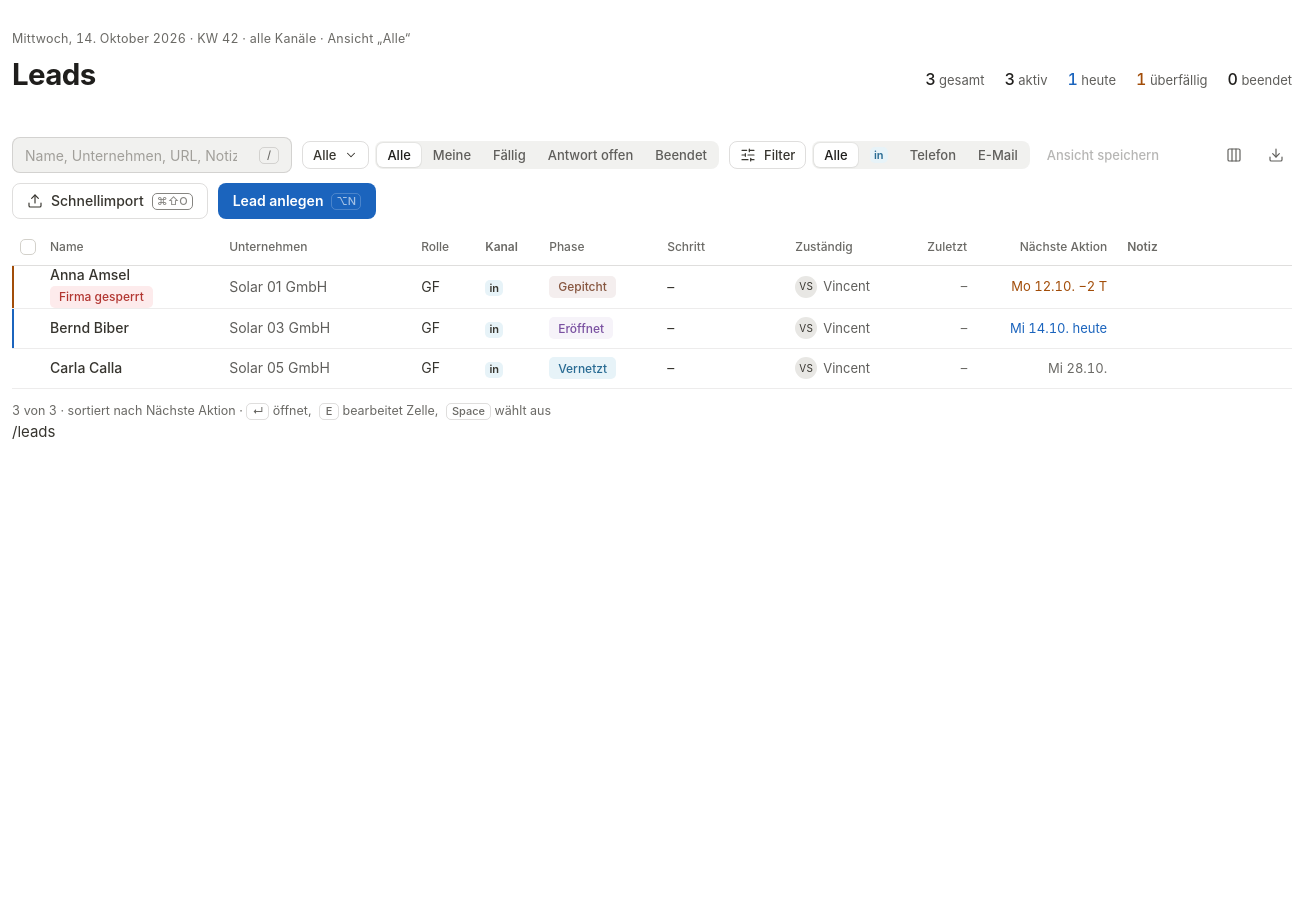
Test case: LeadsSeite › Suche schreibt ?q= (entprellt) und der Leerzustand schlägt „Meintest du …“ vor (LE-02)
The width and height of the screenshot is (1304, 900).
In the search field named "Leads durchsuchen": coordinates (138, 155) [25,138,251,172], type "conrd"
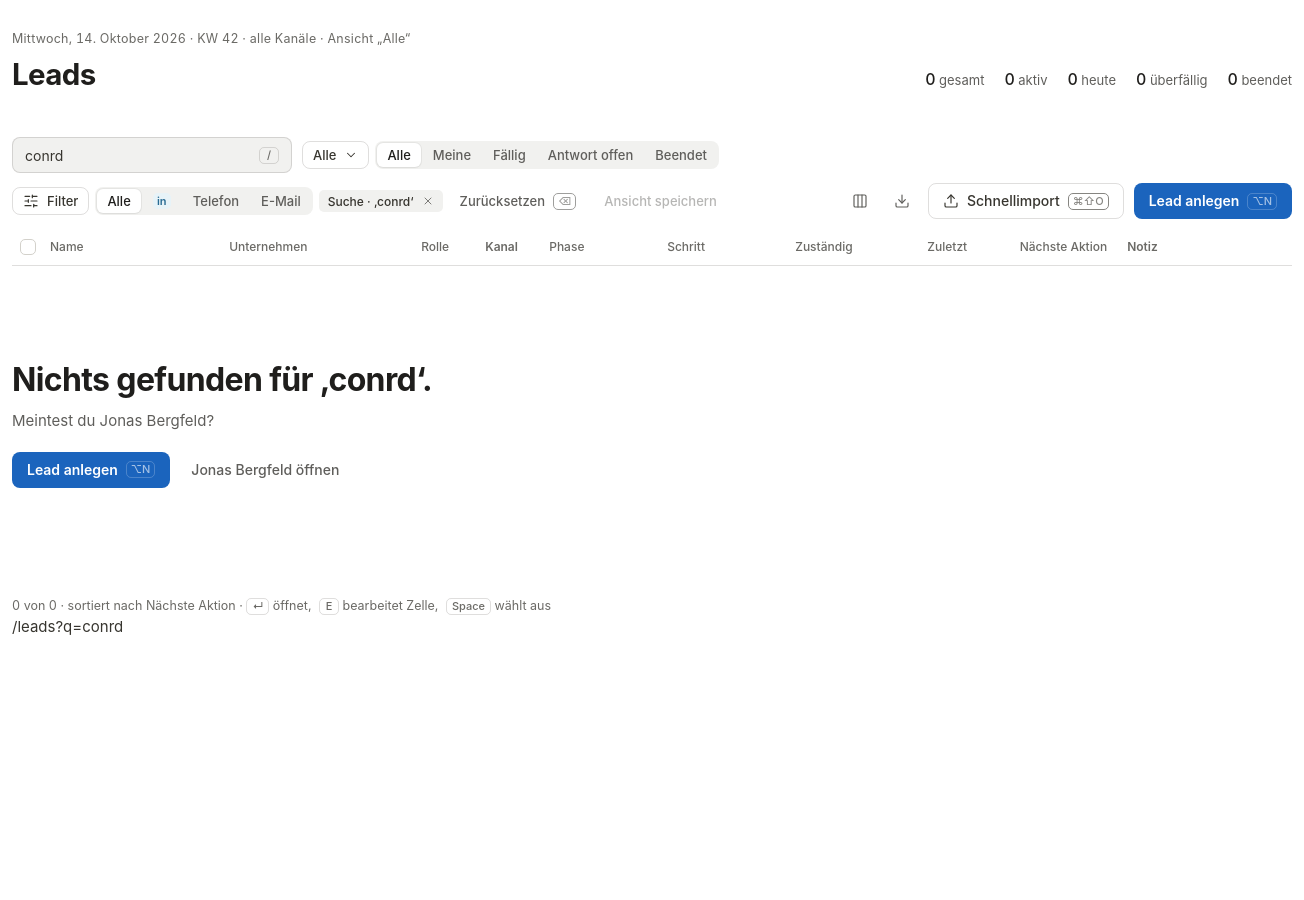
Check: the text with test id "ort" shows "q=conrd", box [12,617,123,636]
Check: the heading "Nichts gefunden für ‚conrd‘." is shown, box [12,362,432,398]
Check: the text "Meintest du Jonas Bergfeld?" is shown, box [12,410,214,430]
